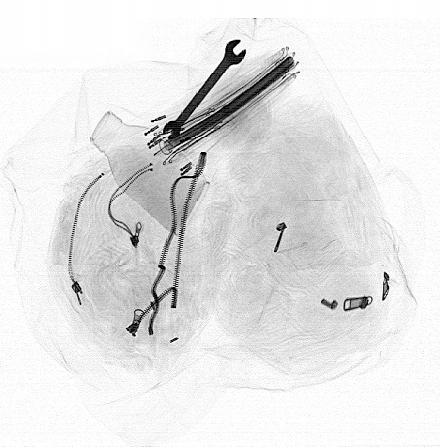Wrench: (161, 38, 247, 139)
